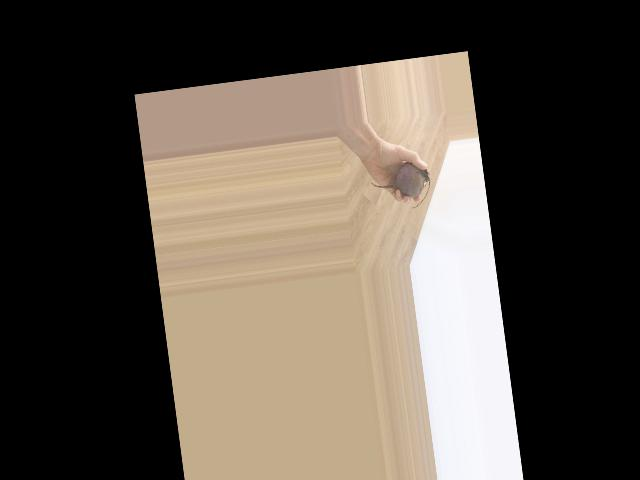beet: (369, 159, 434, 214)
